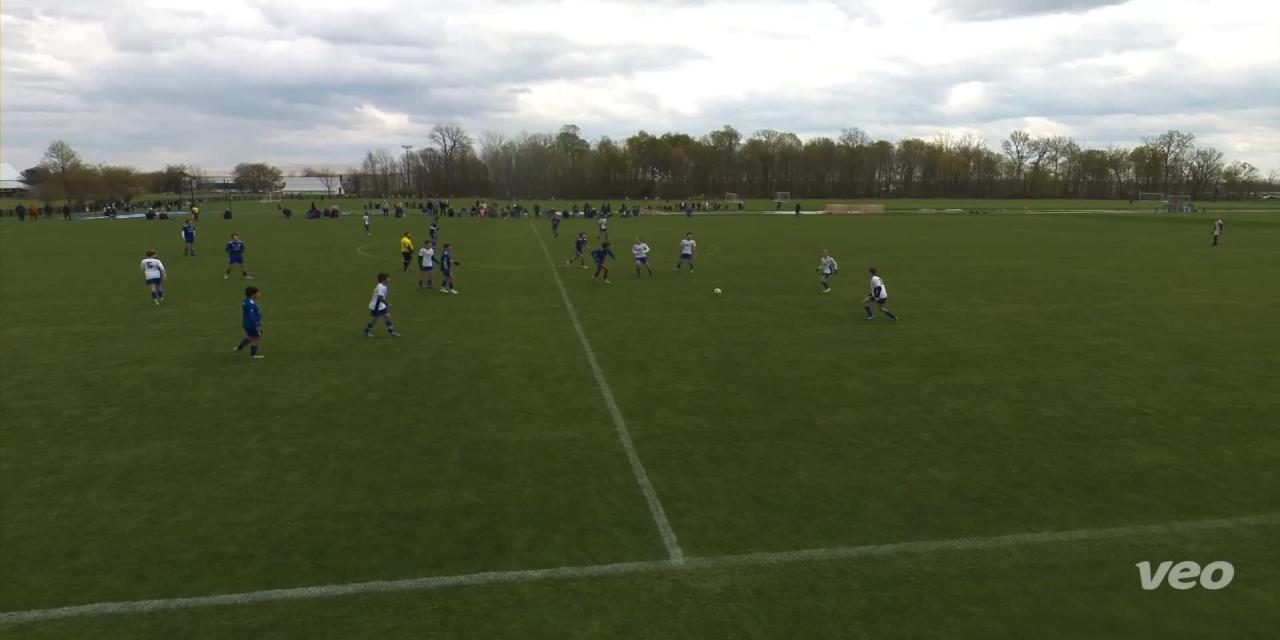sports ball: (708, 286, 729, 302)
